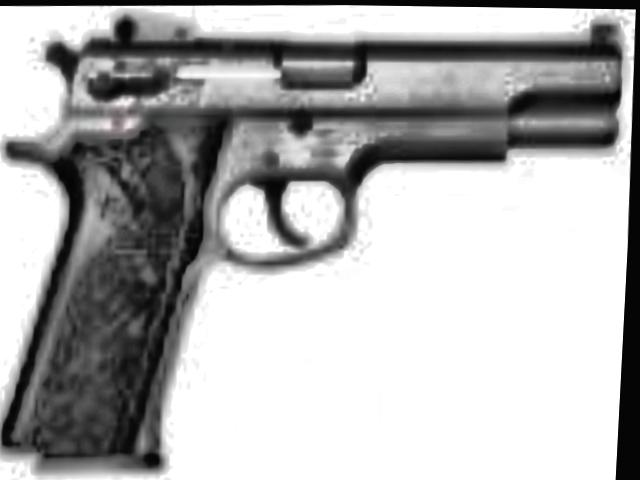pistol: (0, 0, 628, 472)
